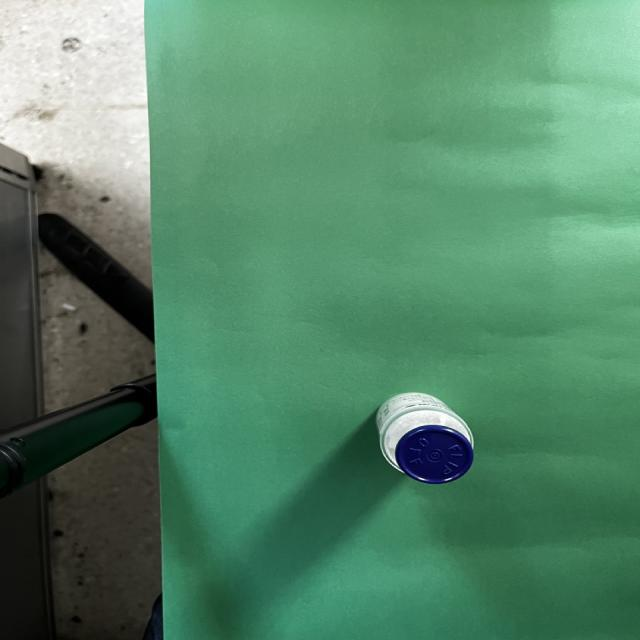Vials: (374, 393, 477, 488)
